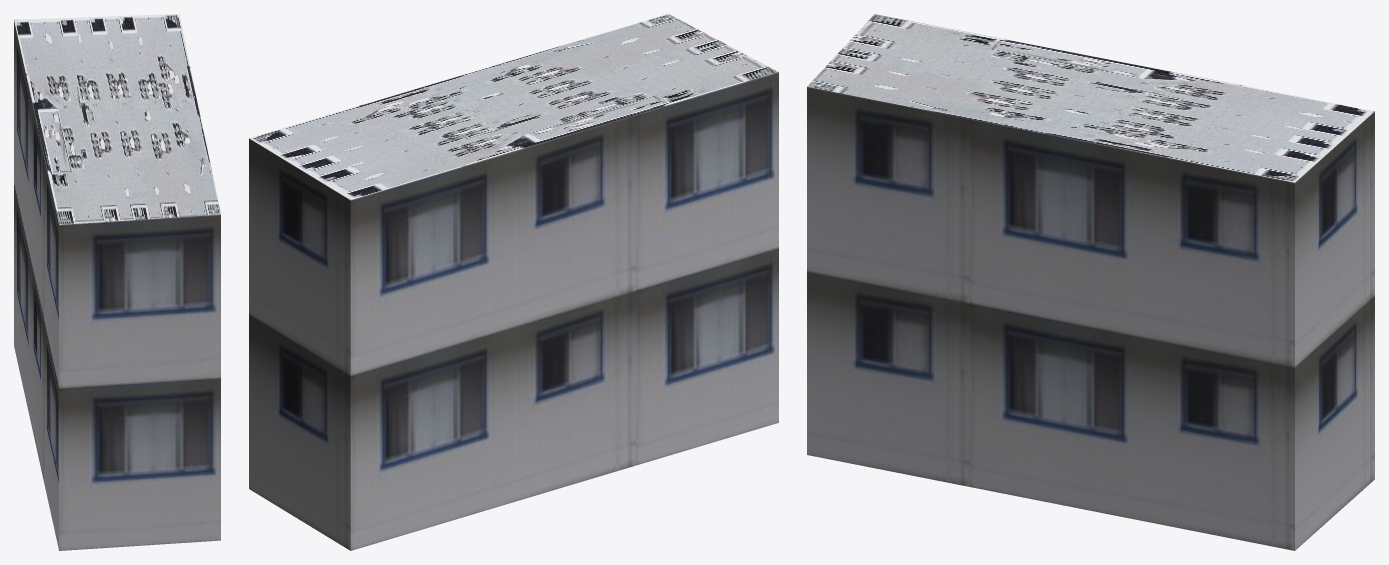
File: ResTex__5166.fbx
The picture shows the model from 3 angles, left to right: view 1: azimuth 30°, elevation 25°; view 2: azimuth 150°, elevation 25°; view 3: azimuth 270°, elevation 25°; orthographic projection. The views are drawn at different scales.
Parts seen in each view (by area): view 1: CityEngineMaterial_9_m, CityEngineMaterial_8_m; view 2: CityEngineMaterial_9_m, CityEngineMaterial_8_m; view 3: CityEngineMaterial_9_m, CityEngineMaterial_8_m.
Part boxes in pixels (x1,y1,x2,y2): CityEngineMaterial_9_m: (14,20,220,550); CityEngineMaterial_8_m: (14,14,220,224); CityEngineMaterial_9_m: (249,72,778,550); CityEngineMaterial_8_m: (249,14,778,200); CityEngineMaterial_9_m: (807,87,1374,550); CityEngineMaterial_8_m: (807,14,1374,182).
Bounding box in the file's own units: 5.9 × 6 × 8.39.
2 materials, 2 textured.
